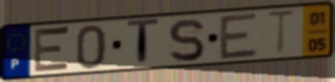0: (75, 22, 109, 71)
E: (218, 11, 260, 62), (32, 25, 72, 75)
S: (166, 17, 207, 64)
T: (125, 17, 161, 69), (264, 9, 298, 58)
